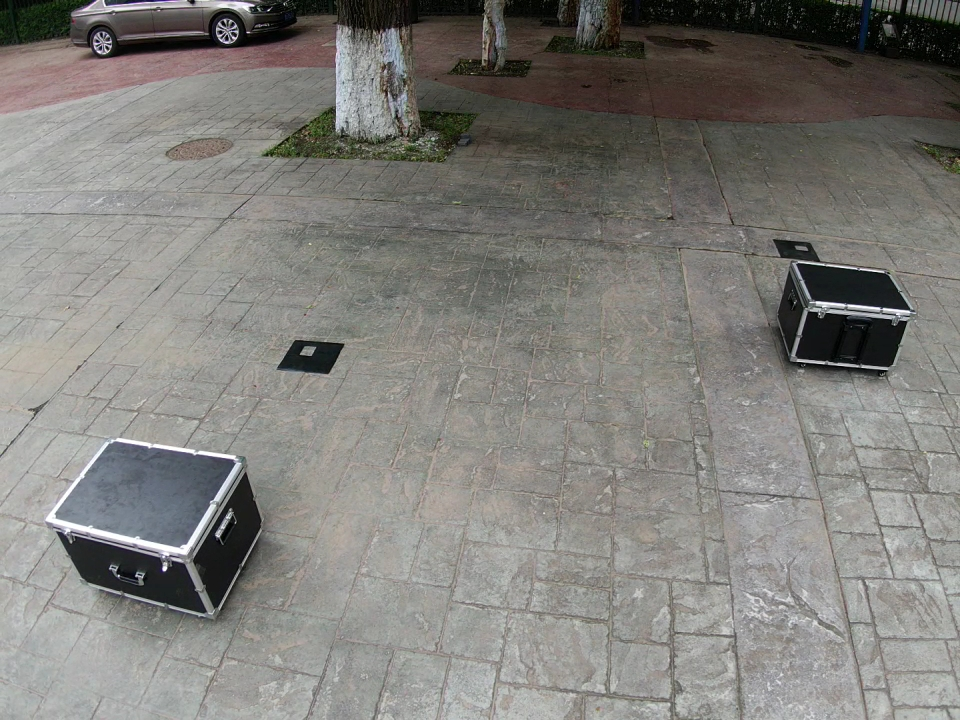box: (46, 437, 264, 618), (776, 261, 916, 371)
qrcode: (276, 340, 344, 374), (773, 239, 820, 261)
